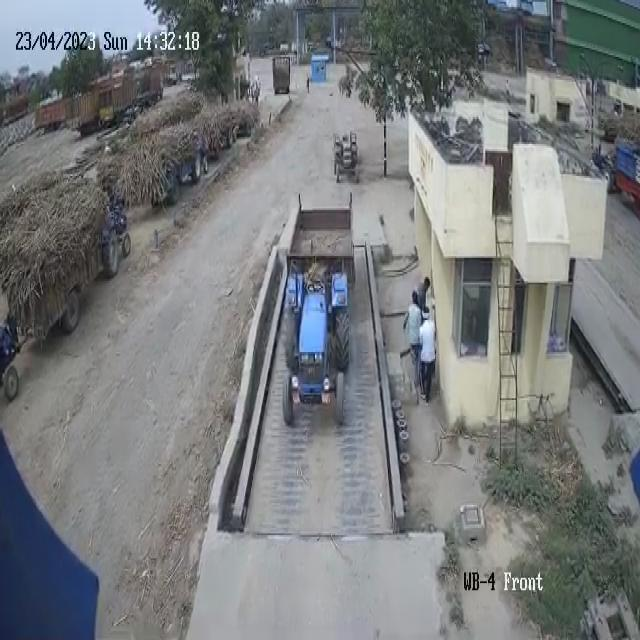Tratores - v5 YOLO V8L 2024-11-13: (282, 267, 356, 432), (330, 133, 360, 179)
